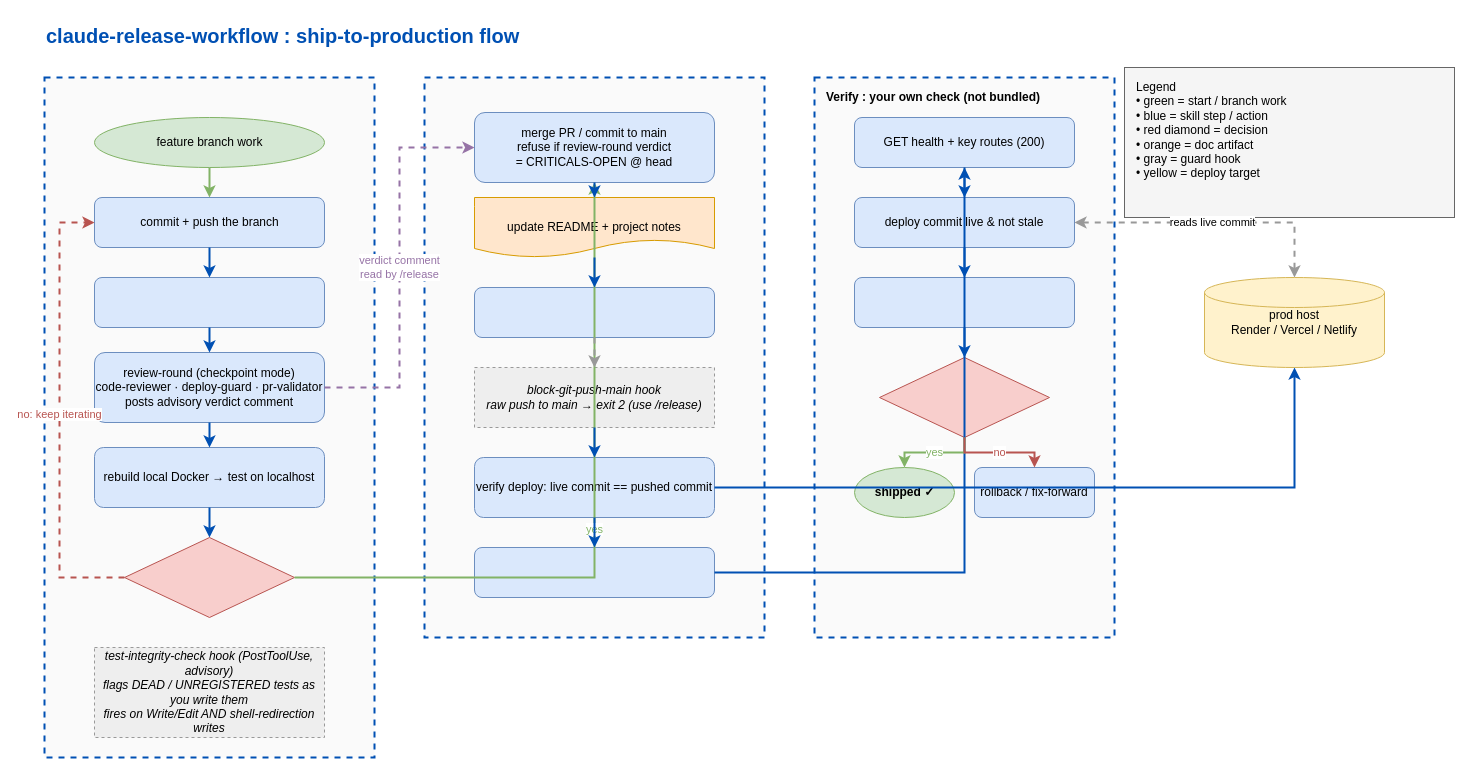
Image size: 1472x775. Some labels were removed from this diagram. The box of each missing label's shape, as (x1, y1, x2, y2) in pixels:
all green?: (878, 356, 1050, 438)
DEBUG off · scan logs for 5xx: (854, 276, 1074, 328)
Iterate : /pr-checkpoint (no merge, no prod): (43, 76, 375, 758)
open / update draft PR: (94, 276, 324, 328)
push to all remotes: (474, 286, 714, 338)
ready to ship?: (124, 536, 294, 618)
rebuild local Docker to match prod: (474, 546, 714, 598)
Ship : /release (the atomic gate): (423, 76, 765, 638)
